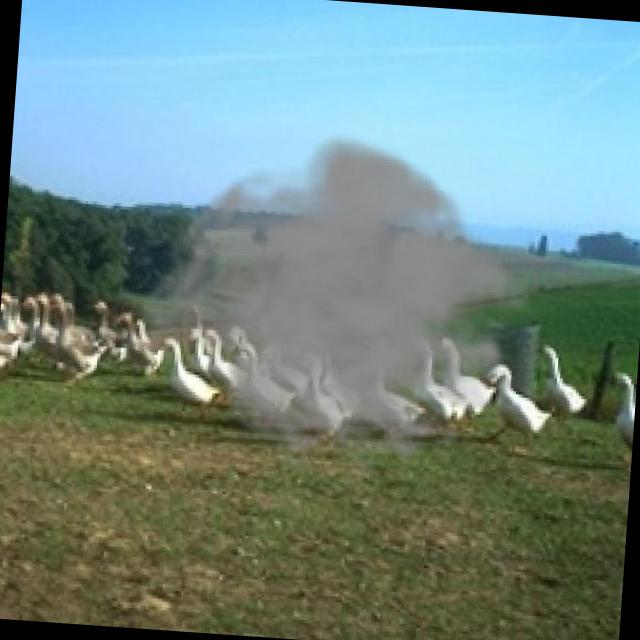Smoke: (121, 119, 559, 490)
